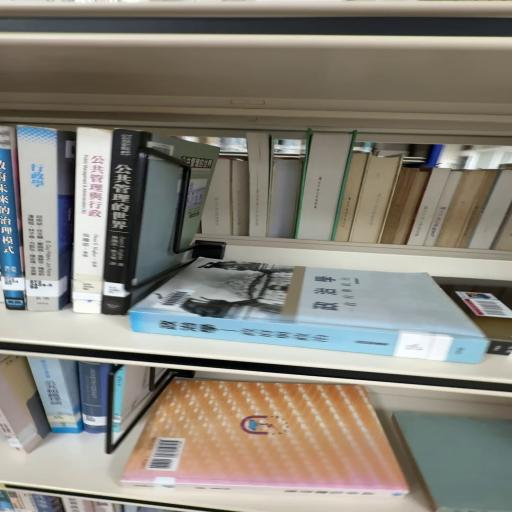flat: (131, 259, 489, 364), (121, 380, 410, 498)
